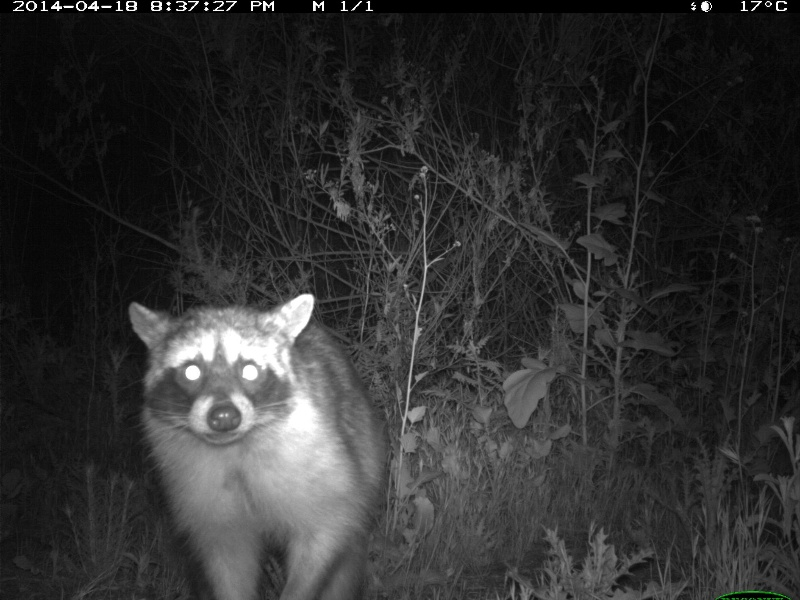raccoon: (121, 294, 395, 591)
